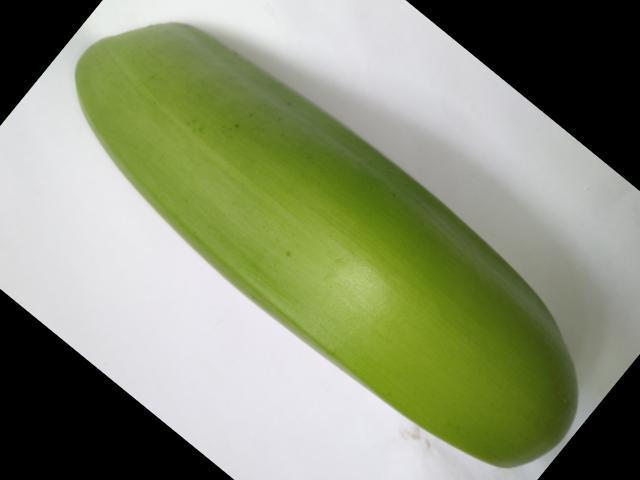freshunripe: (58, 13, 587, 471)
